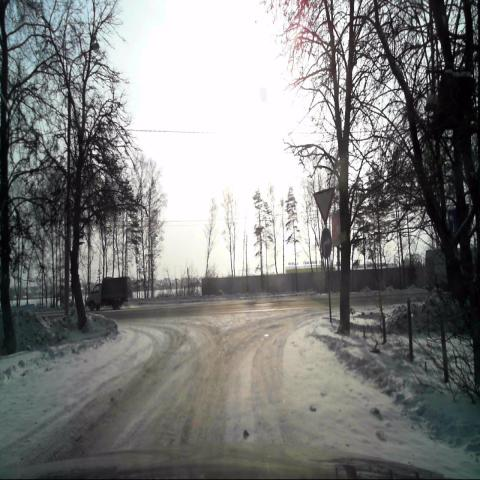4_1_2: (320, 228, 332, 259)
